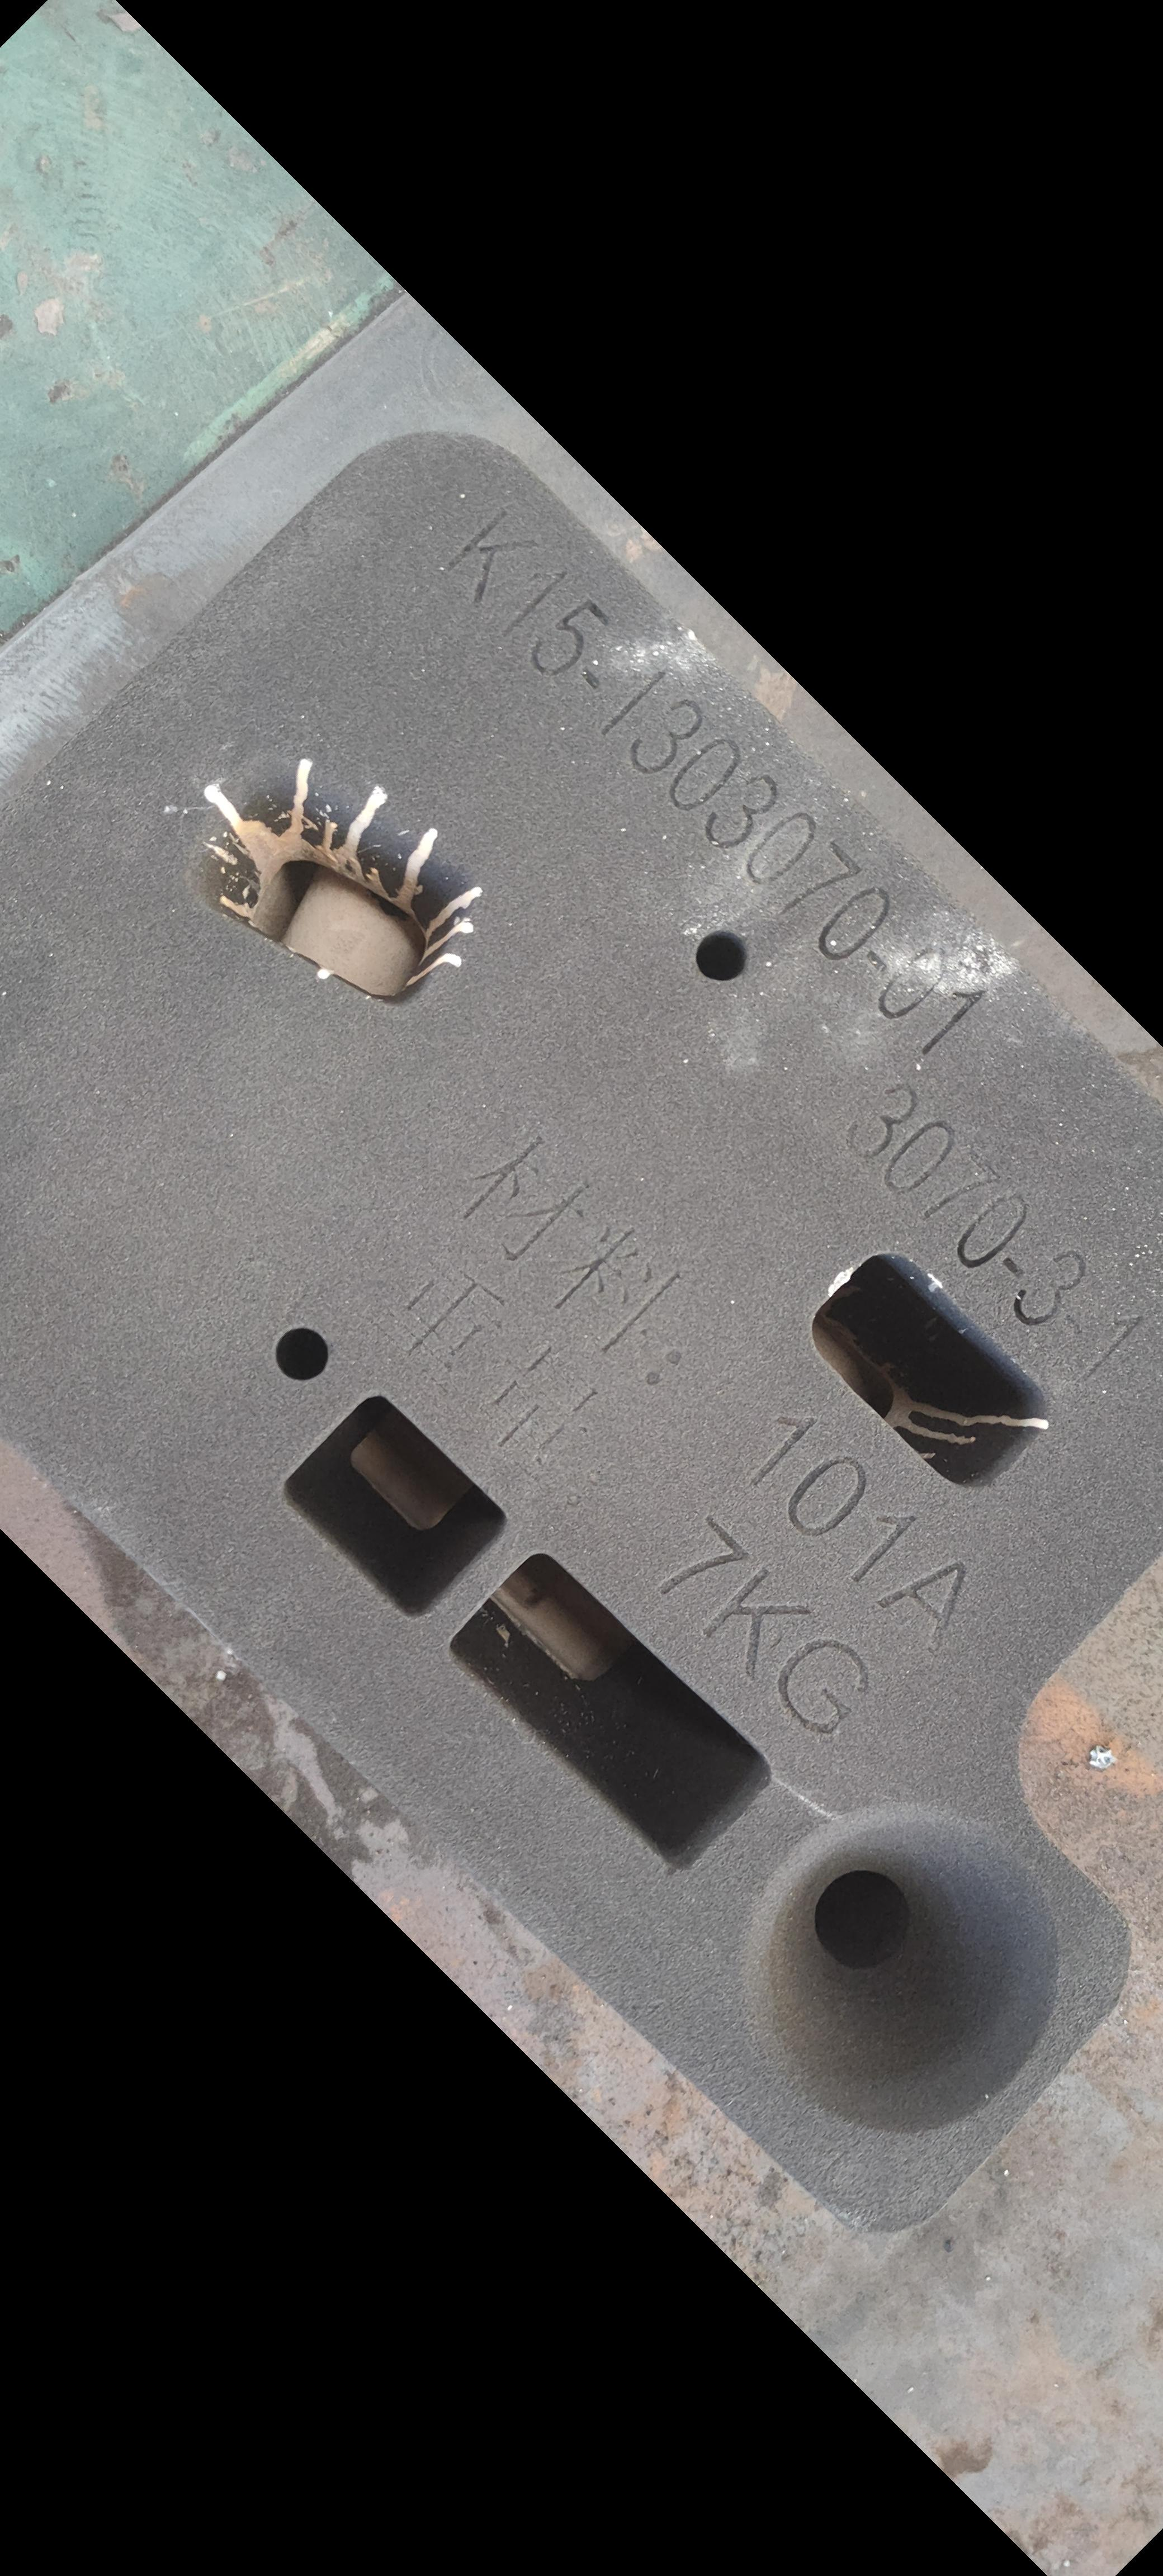pouring hole: (742, 1799, 1058, 2127)
